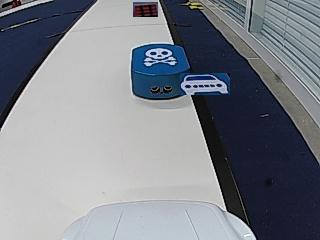danger: (143, 48, 176, 67)
